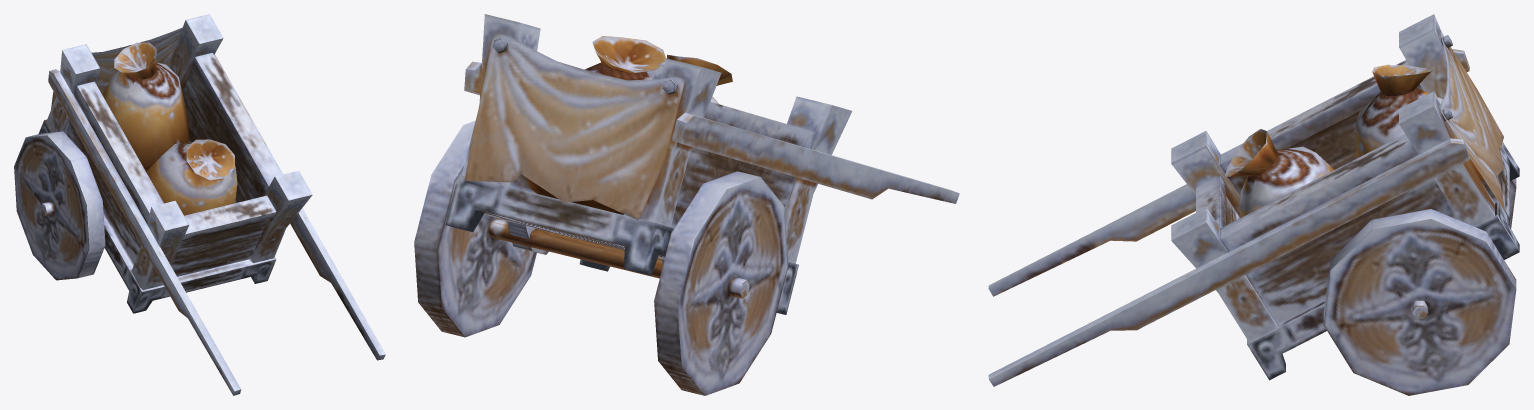
The model's file is rzjd_zafc_01.FBX.
The picture shows the model from 3 angles, left to right: view 1: azimuth 30°, elevation 25°; view 2: azimuth 150°, elevation 25°; view 3: azimuth 270°, elevation 25°; orthographic projection. The views are drawn at different scales.
Parts seen in each view (by area): view 1: rzjd_zafc_01; view 2: rzjd_zafc_01; view 3: rzjd_zafc_01.
Boxes of the visible parts, x1=… form: rzjd_zafc_01: x1=14, y1=14, x2=385, y2=395; rzjd_zafc_01: x1=414, y1=14, x2=959, y2=395; rzjd_zafc_01: x1=988, y1=14, x2=1519, y2=395.
Size of the model in its own units: 220 by 236 by 405.
